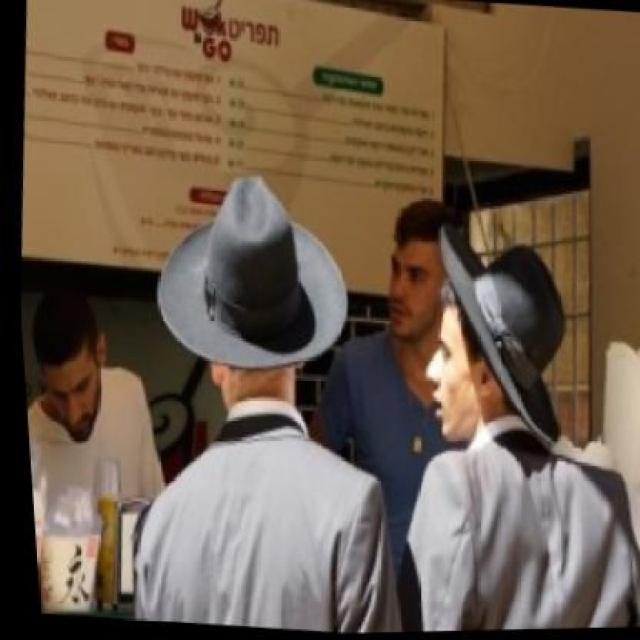hat: (142, 160, 362, 383), (412, 211, 578, 460)
